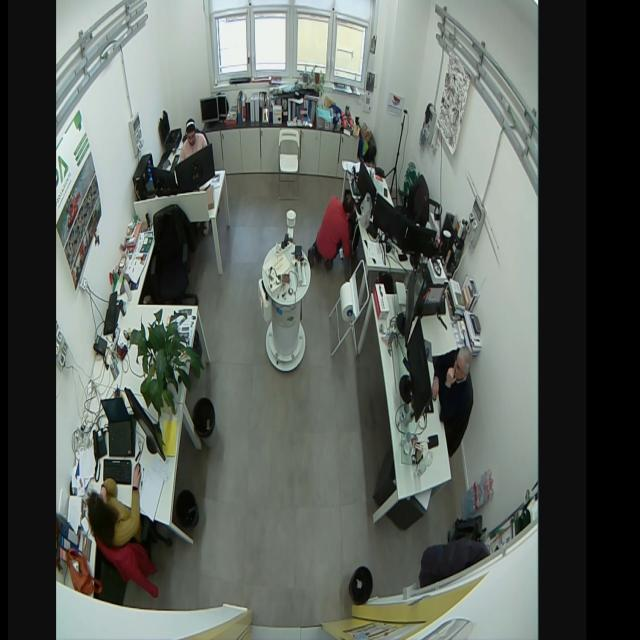Persona: (85, 458, 145, 554), (423, 340, 474, 442), (306, 186, 357, 274), (174, 114, 211, 164)
